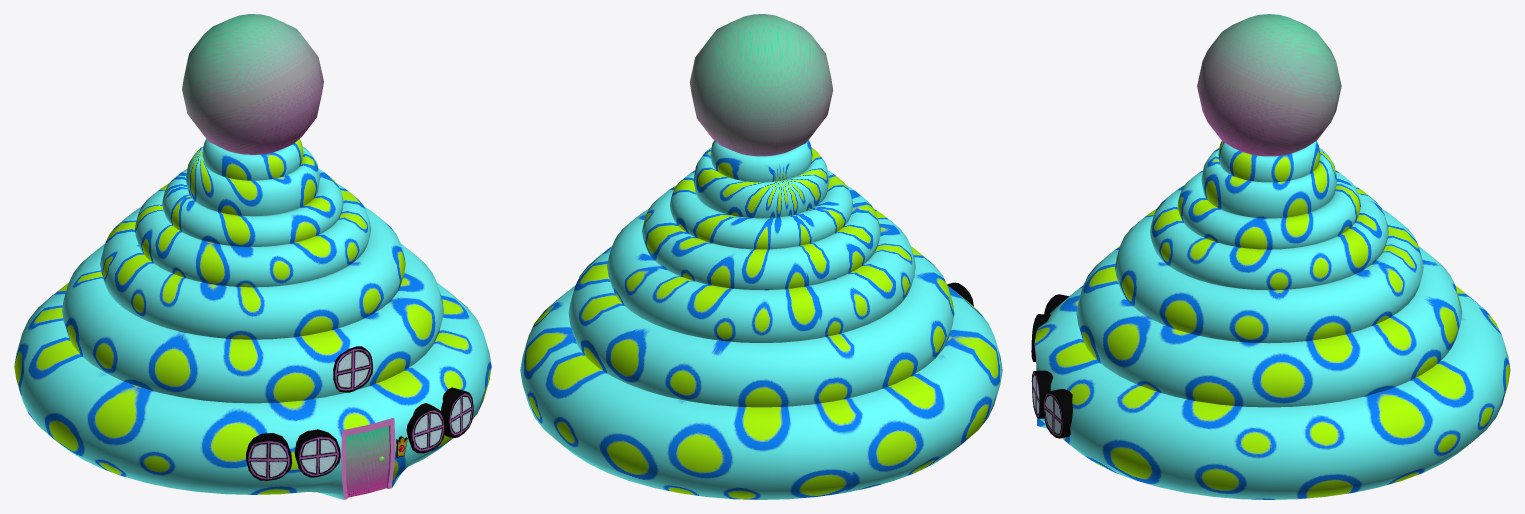
The model's file is House7.fbx.
3 views of the same model, side by side, from view 1: azimuth 30°, elevation 25°; view 2: azimuth 150°, elevation 25°; view 3: azimuth 270°, elevation 25° (orthographic).
Parts seen in each view (by area): view 1: House 7, House 7 Door, Plane.002, Plane.003, Plane.000, Plane.013, Plane.001; view 2: House 7; view 3: House 7, Plane.001, Plane.000.
Part boxes in pixels (box(x1,y1,x2,y2)): House 7: box(14, 14, 491, 499); House 7 Door: box(341, 417, 395, 499); Plane.002: box(246, 433, 292, 480); Plane.003: box(294, 429, 340, 477); Plane.000: box(406, 403, 445, 453); Plane.013: box(333, 346, 372, 392); Plane.001: box(441, 387, 473, 438); House 7: box(520, 14, 1002, 499); House 7: box(1034, 14, 1510, 499); Plane.001: box(1043, 389, 1072, 438); Plane.000: box(1031, 370, 1053, 418).
Bounding box in the file's own units: 96 × 86.4 × 95.35.
